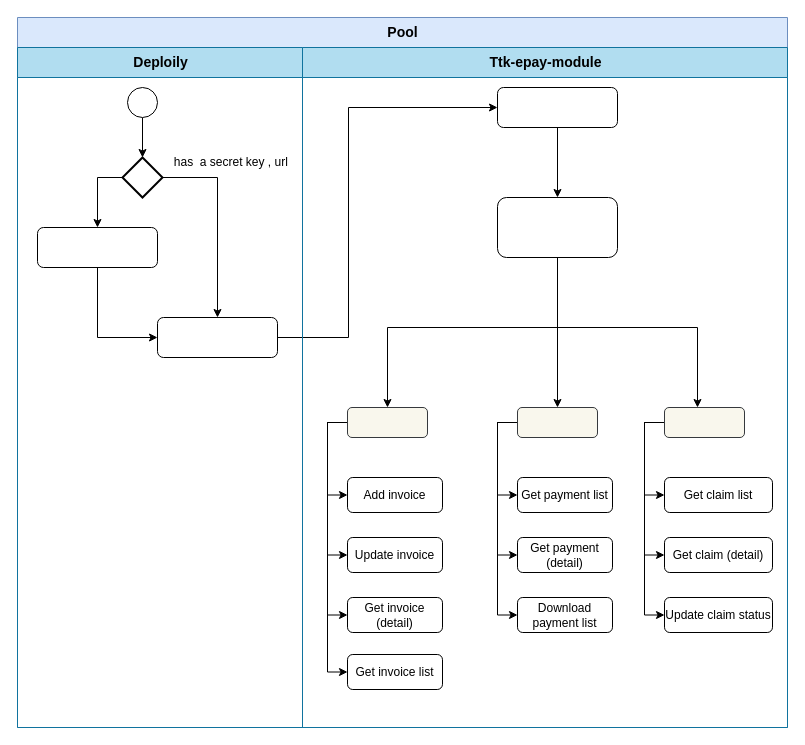
Some shapes in this 805 by 745 pixel diagram are drawn without their labels. Each missing label, with the centre of its shape:
Access to admin console page: (x=557, y=107)
Add secret key and url: (x=557, y=227)
Claim: (x=704, y=422)
Get (secret key, url): (x=217, y=337)
Invoices: (x=387, y=422)
Pay the module: (x=97, y=247)
Payment: (x=557, y=422)
